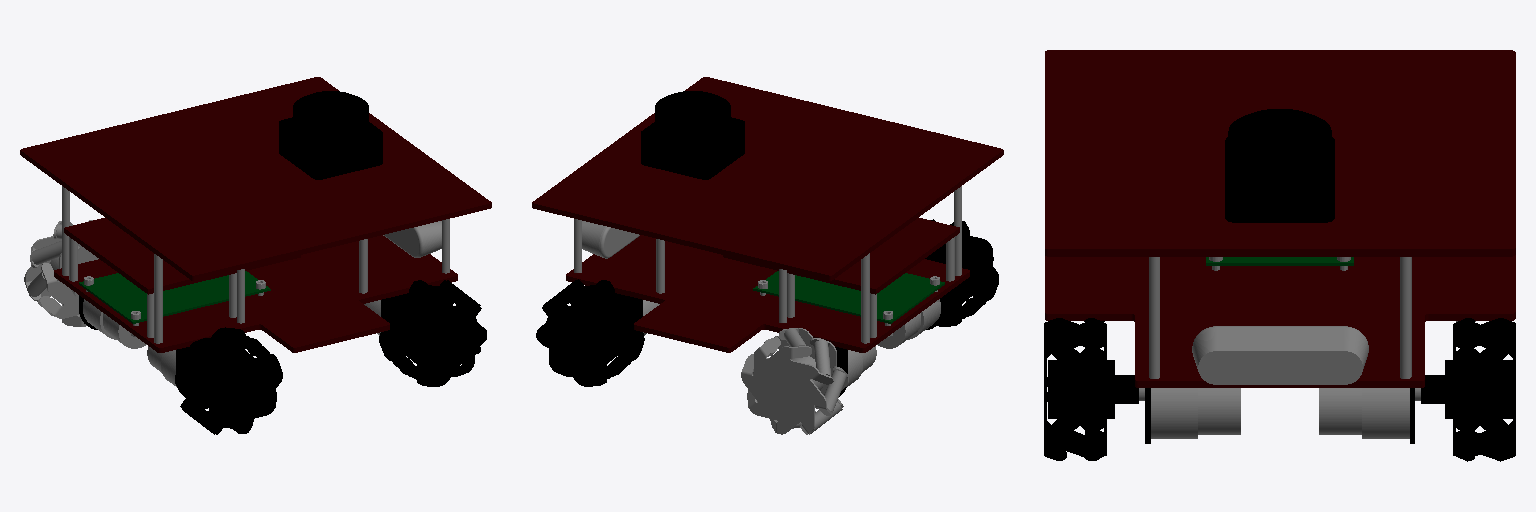
URDF robot description (lgdxrobot2):
<robot name="lgdxrobot2" version="1.0">
  <joint name="base_footprint_joint" type="fixed">
    <origin rpy="0.00000 0.00000 0.00000" xyz="0.00000 0.00000 0.00000"/>
    <parent link="base_link"/>
    <child link="base_footprint"/>
  </joint>
  <joint name="camera_link_joint" type="fixed">
    <origin rpy="0.00000 0.00000 0.00000" xyz="0.13104 0.01776 0.07181"/>
    <parent link="base_link"/>
    <child link="camera_link"/>
  </joint>
  <joint name="camera_color_frame_joint" type="fixed">
    <origin rpy="0.00000 0.00000 0.00000" xyz="-0.00000 0.01500 0.00000"/>
    <parent link="camera_link"/>
    <child link="camera_color_frame_sim"/>
  </joint>
  <joint name="camera_depth_frame_joint" type="fixed">
    <origin rpy="0.00000 0.00000 0.00000" xyz="-0.00000 -0.00000 0.00000"/>
    <parent link="camera_link"/>
    <child link="camera_depth_frame_sim"/>
  </joint>
  <joint name="lidar_link_joint" type="fixed">
    <origin rpy="0.00000 0.00000 0.00000" xyz="0.06000 -0.00000 0.15641"/>
    <parent link="base_link"/>
    <child link="lidar_link"/>
  </joint>
  <joint name="wheel1_link_joint" type="continuous">
    <limit effort="30.00000" velocity="12.00000"/>
    <origin rpy="-1.57080 0.00000 0.00000" xyz="0.08200 0.10357 0.03681"/>
    <parent link="base_link"/>
    <child link="wheel1_link"/>
    <axis xyz="0.00000 0.00000 1.00000"/>
  </joint>
  <joint name="wheel2_link_joint" type="continuous">
    <limit effort="30.00000" velocity="12.00000"/>
    <origin rpy="-1.57080 0.00000 0.00000" xyz="0.08185 -0.10362 0.03676"/>
    <parent link="base_link"/>
    <child link="wheel2_link"/>
    <axis xyz="0.00000 0.00000 1.00000"/>
  </joint>
  <joint name="wheel3_link_joint" type="continuous">
    <limit effort="30.00000" velocity="12.00000"/>
    <origin rpy="-1.57080 0.00000 0.00000" xyz="-0.08200 0.10357 0.03681"/>
    <parent link="base_link"/>
    <child link="wheel3_link"/>
    <axis xyz="0.00000 0.00000 1.00000"/>
  </joint>
  <joint name="wheel4_link_joint" type="continuous">
    <limit effort="30.00000" velocity="12.00000"/>
    <origin rpy="-1.57080 0.00000 0.00000" xyz="-0.08200 -0.10357 0.03681"/>
    <parent link="base_link"/>
    <child link="wheel4_link"/>
    <axis xyz="0.00000 0.00000 1.00000"/>
  </joint>
  <link name="base_link">
    <collision name="brackets_collision">
      <origin rpy="0.00000 0.00000 0.00000" xyz="0.00000 0.00000 0.03150"/>
      <geometry>
        <box size="0.20400 0.13800 0.04700"/>
      </geometry>
    </collision>
    <collision name="plates_collision">
      <origin rpy="0.00000 0.00000 0.00000" xyz="0.00000 0.00000 0.09400"/>
      <geometry>
        <box size="0.24000 0.24000 0.07800"/>
      </geometry>
    </collision>
    <visual name="board">
      <material name="lgdxrobot_green"/>
      <origin rpy="0.00000 0.00000 0.00000" xyz="0.00000 0.00000 0.00000"/>
      <geometry>
        <mesh filename="package://lgdxrobot2_description/meshes/dae/b_LGDXRobot2_Board_001_.dae" scale="1.00000 1.00000 1.00000"/>
      </geometry>
    </visual>
    <visual name="brackets">
      <material name="lgdxrobot_black"/>
      <origin rpy="0.00000 0.00000 0.00000" xyz="0.00000 0.00000 0.00000"/>
      <geometry>
        <mesh filename="package://lgdxrobot2_description/meshes/dae/b_Mounting_Bracket_001_001.dae" scale="1.00000 1.00000 1.00000"/>
      </geometry>
    </visual>
    <visual name="motors">
      <material name="lgdxrobot_sliver"/>
      <origin rpy="0.00000 0.00000 0.00000" xyz="0.00000 0.00000 0.00000"/>
      <geometry>
        <mesh filename="package://lgdxrobot2_description/meshes/dae/b_Motor_001_001.dae" scale="1.00000 1.00000 1.00000"/>
      </geometry>
    </visual>
    <visual name="plates">
      <material name="lgdxrobot_red"/>
      <origin rpy="0.00000 0.00000 0.00000" xyz="0.00000 0.00000 0.00000"/>
      <geometry>
        <mesh filename="package://lgdxrobot2_description/meshes/dae/b_Top_Plate_001_.dae" scale="1.00000 1.00000 1.00000"/>
      </geometry>
    </visual>
    <visual name="screws">
      <material name="lgdxrobot_sliver"/>
      <origin rpy="0.00000 0.00000 0.00000" xyz="0.00000 0.00000 0.00000"/>
      <geometry>
        <mesh filename="package://lgdxrobot2_description/meshes/dae/b_M4_Nut_001_021.dae" scale="1.00000 1.00000 1.00000"/>
      </geometry>
    </visual>
    <visual name="standoffs">
      <material name="lgdxrobot_sliver"/>
      <origin rpy="0.00000 0.00000 0.00000" xyz="0.00000 0.00000 0.00000"/>
      <geometry>
        <mesh filename="package://lgdxrobot2_description/meshes/dae/b_Coupling_Nut_70mm_001_006.dae" scale="1.00000 1.00000 1.00000"/>
      </geometry>
    </visual>
  </link>
  <link name="base_footprint"/>
  <link name="camera_link">
    <collision name="camera_collision">
      <origin rpy="0.00000 0.00000 0.00000" xyz="0.01097 -0.00000 0.01306"/>
      <geometry>
        <box size="0.02500 0.09000 0.02500"/>
      </geometry>
    </collision>
    <visual name="camera">
      <material name="lgdxrobot_sliver"/>
      <origin rpy="0.00000 0.00000 0.00000" xyz="-0.02304 -0.01750 -0.01250"/>
      <geometry>
        <mesh filename="package://lgdxrobot2_description/meshes/dae/b_Camera_001_.dae" scale="1.00000 1.00000 1.00000"/>
      </geometry>
    </visual>
  </link>
  <link name="camera_color_frame_sim"/>
  <link name="camera_depth_frame_sim"/>
  <link name="lidar_link">
    <collision name="lidar_collision">
      <origin rpy="0.00000 0.00000 0.00000" xyz="0.00000 0.00000 0.02150"/>
      <geometry>
        <box size="0.05560 0.05560 0.04130"/>
      </geometry>
    </collision>
    <visual name="lidar">
      <material name="lgdxrobot_black"/>
      <origin rpy="0.00000 0.00000 0.00000" xyz="0.00000 -0.00000 -0.02310"/>
      <geometry>
        <mesh filename="package://lgdxrobot2_description/meshes/dae/b_Lidar_001_.dae" scale="1.00000 1.00000 1.00000"/>
      </geometry>
    </visual>
  </link>
  <link name="wheel1_link">
    <collision name="wheel1_collision">
      <origin rpy="-3.14159 0.00000 0.00000" xyz="0.00000 0.00000 -0.00026"/>
      <geometry>
        <cylinder radius="0.03750" length="0.03200"/>
      </geometry>
    </collision>
    <visual name="wheel1">
      <material name="lgdxrobot_black"/>
      <origin rpy="1.57080 0.00000 0.00000" xyz="0.00000 0.00000 0.00000"/>
      <geometry>
        <mesh filename="package://lgdxrobot2_description/meshes/dae/b_Wheel_1_001_.dae" scale="1.00000 1.00000 1.00000"/>
      </geometry>
    </visual>
  </link>
  <link name="wheel2_link">
    <collision name="wheel2_collision">
      <origin rpy="-3.14159 0.00000 0.00000" xyz="0.00001 -0.00000 0.00027"/>
      <geometry>
        <cylinder radius="0.03750" length="0.03200"/>
      </geometry>
    </collision>
    <visual name="wheel2">
      <material name="lgdxrobot_black"/>
      <origin rpy="1.57080 0.00000 0.00000" xyz="0.00000 0.00000 0.00000"/>
      <geometry>
        <mesh filename="package://lgdxrobot2_description/meshes/dae/b_Wheel_2_001_.dae" scale="1.00000 1.00000 1.00000"/>
      </geometry>
    </visual>
  </link>
  <link name="wheel3_link">
    <collision name="wheel3_collision">
      <origin rpy="-3.14159 0.00000 0.00000" xyz="0.00000 0.00000 -0.00026"/>
      <geometry>
        <cylinder radius="0.03750" length="0.03200"/>
      </geometry>
    </collision>
    <visual name="wheel3">
      <material name="lgdxrobot_sliver"/>
      <origin rpy="1.57080 0.00000 0.00000" xyz="0.00000 -0.00000 0.00000"/>
      <geometry>
        <mesh filename="package://lgdxrobot2_description/meshes/dae/b_Wheel_3_001_.dae" scale="1.00000 1.00000 1.00000"/>
      </geometry>
    </visual>
  </link>
  <link name="wheel4_link">
    <collision name="wheel4_collision">
      <origin rpy="-3.14159 0.00000 0.00000" xyz="-0.00000 -0.00000 0.00026"/>
      <geometry>
        <cylinder radius="0.03750" length="0.03200"/>
      </geometry>
    </collision>
    <visual name="wheel4">
      <material name="lgdxrobot_black"/>
      <origin rpy="1.57080 0.00000 0.00000" xyz="0.00000 -0.00000 0.00000"/>
      <geometry>
        <mesh filename="package://lgdxrobot2_description/meshes/dae/b_Wheel_4_001_.dae" scale="1.00000 1.00000 1.00000"/>
      </geometry>
    </visual>
  </link>
  <material name="lgdxrobot_black">
    <color rgba="0.00000 0.00000 0.00000 1.00000"/>
  </material>
  <material name="lgdxrobot_green">
    <color rgba="0.00000 0.25882 0.06667 1.00000"/>
  </material>
  <material name="lgdxrobot_red">
    <color rgba="0.21961 0.00784 0.01176 1.00000"/>
  </material>
  <material name="lgdxrobot_sliver">
    <color rgba="0.52549 0.52549 0.52549 1.00000"/>
  </material>
</robot>

--- What the picture shows (computed from the rendered views, not written in the file) ---
Views: 3 orthographic renders of the robot side by side, from view 1: azimuth 30°, elevation 25°; view 2: azimuth 150°, elevation 25°; view 3: azimuth 270°, elevation 25°.
Robot: lgdxrobot2 — 10 links, 9 joints (4 continuous, 5 fixed); root link base_link; default pose: every joint at zero.
Visible links, largest first — view 1: base_link, wheel4_link, wheel2_link, lidar_link, wheel3_link, camera_link; view 2: base_link, wheel3_link, wheel1_link, lidar_link, wheel4_link, camera_link; view 3: base_link, lidar_link, camera_link, wheel1_link, wheel2_link.
Link boxes in pixels (box(x1,y1,x2,y2)): base_link: box(20, 77, 491, 396); wheel4_link: box(175, 327, 282, 434); wheel2_link: box(379, 280, 486, 386); lidar_link: box(279, 91, 382, 179); wheel3_link: box(24, 220, 98, 326); camera_link: box(383, 221, 441, 257); base_link: box(532, 77, 1003, 396); wheel3_link: box(741, 328, 848, 434); wheel1_link: box(536, 279, 644, 386); lidar_link: box(641, 91, 744, 179); wheel4_link: box(925, 219, 998, 326); camera_link: box(582, 221, 639, 258); base_link: box(1045, 50, 1515, 443); lidar_link: box(1225, 109, 1334, 222); camera_link: box(1192, 326, 1368, 384); wheel1_link: box(1421, 318, 1515, 461); wheel2_link: box(1044, 318, 1138, 460).
Size in the robot's own frame: 0.251 by 0.2401 by 0.1728 metres.
Meshes: 12 distinct files referenced, 12 mesh visuals loaded (12 Collada DAE).